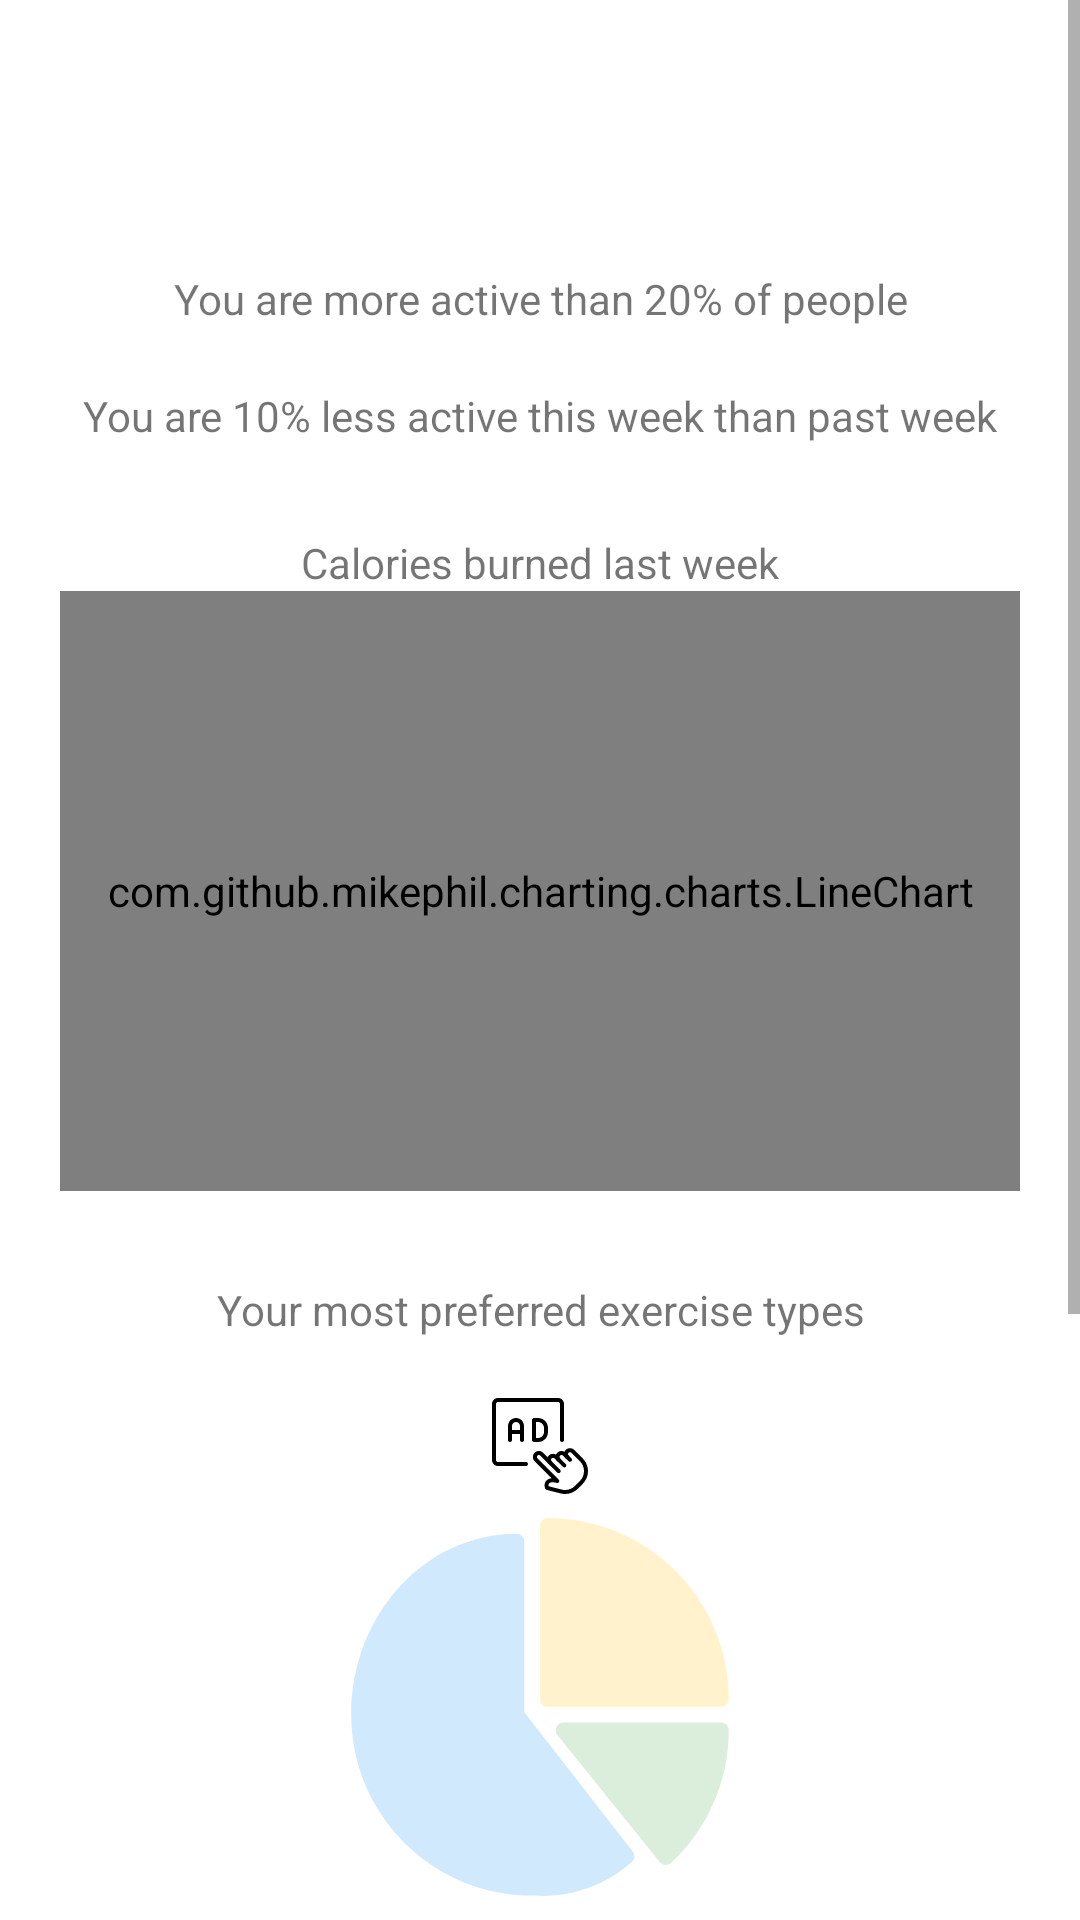

Where to tap for icons on this 1080*1920 app screen, as [x,y]:
advertising: [540,1446]
